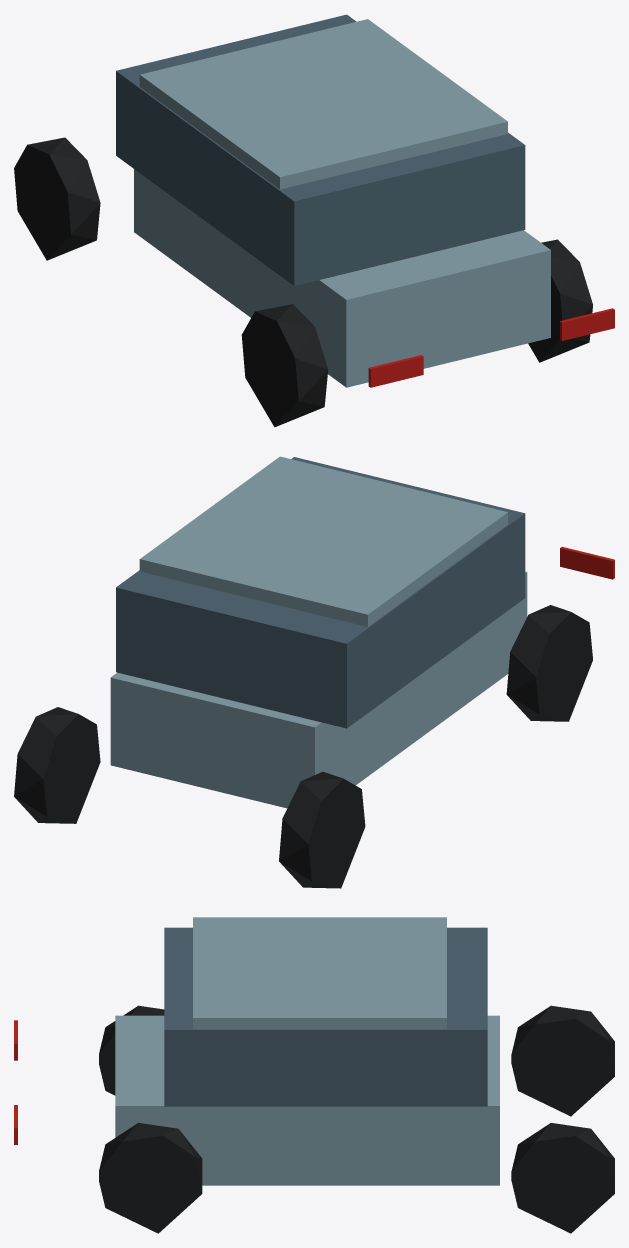
The model's file is traffic_lod1.glb.
The picture shows the model from 3 angles, top to bottom: view 1: azimuth 30°, elevation 25°; view 2: azimuth 150°, elevation 25°; view 3: azimuth 270°, elevation 25°; orthographic projection. The views are drawn at different scales.
Visible parts, largest first — view 1: TrafficCabin.001, TrafficRoof.001, TrafficBody.001, Tire_LR.001, Tire_LF.001, Tire_RR.001, TailLamp_-0.001, TailLamp_0.001; view 2: TrafficCabin.001, TrafficRoof.001, TrafficBody.001, Tire_LR.001, Tire_RF.001, Tire_LF.001, TailLamp_-0.001; view 3: TrafficCabin.001, TrafficBody.001, TrafficRoof.001, Tire_RR.001, Tire_RF.001, Tire_LF.001, Tire_LR.001.
Part boxes in pixels (x1=…): TrafficCabin.001: x1=116, y1=14, x2=525, y2=285; TrafficRoof.001: x1=139, y1=19, x2=507, y2=189; TrafficBody.001: x1=134, y1=169, x2=550, y2=387; Tire_LR.001: x1=241, y1=304, x2=328, y2=427; Tire_LF.001: x1=14, y1=137, x2=100, y2=260; Tire_RR.001: x1=528, y1=239, x2=592, y2=362; TailLamp_-0.001: x1=368, y1=355, x2=423, y2=387; TailLamp_0.001: x1=560, y1=308, x2=614, y2=340; TrafficCabin.001: x1=116, y1=457, x2=525, y2=728; TrafficRoof.001: x1=139, y1=456, x2=507, y2=626; TrafficBody.001: x1=110, y1=571, x2=527, y2=808; Tire_LR.001: x1=506, y1=605, x2=592, y2=721; Tire_RF.001: x1=14, y1=707, x2=100, y2=823; Tire_LF.001: x1=279, y1=771, x2=365, y2=888; TailLamp_-0.001: x1=560, y1=546, x2=614, y2=579; TrafficCabin.001: x1=164, y1=927, x2=487, y2=1106; TrafficBody.001: x1=115, y1=1015, x2=499, y2=1185; TrafficRoof.001: x1=193, y1=917, x2=446, y2=1029; Tire_RR.001: x1=99, y1=1123, x2=202, y2=1233; Tire_RF.001: x1=511, y1=1123, x2=614, y2=1233; Tire_LF.001: x1=511, y1=1005, x2=614, y2=1116; Tire_LR.001: x1=99, y1=1005, x2=164, y2=1095.
Size of the model in its own units: 2 by 1.44 by 3.9.
